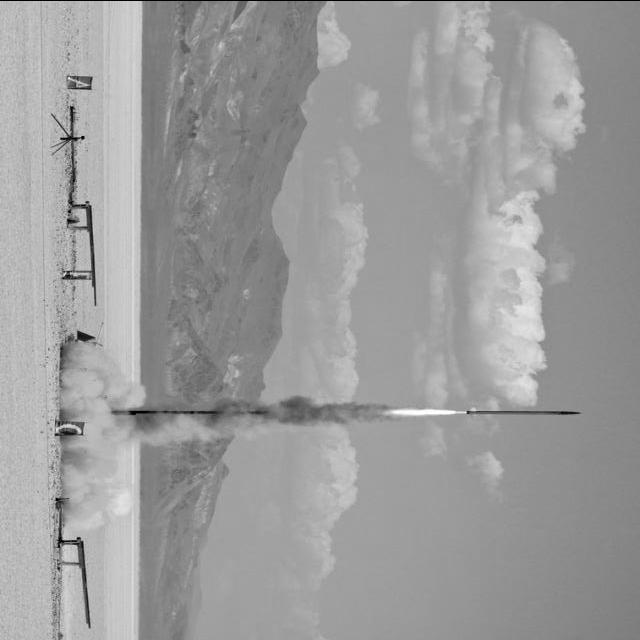missile: (467, 404, 580, 417)
